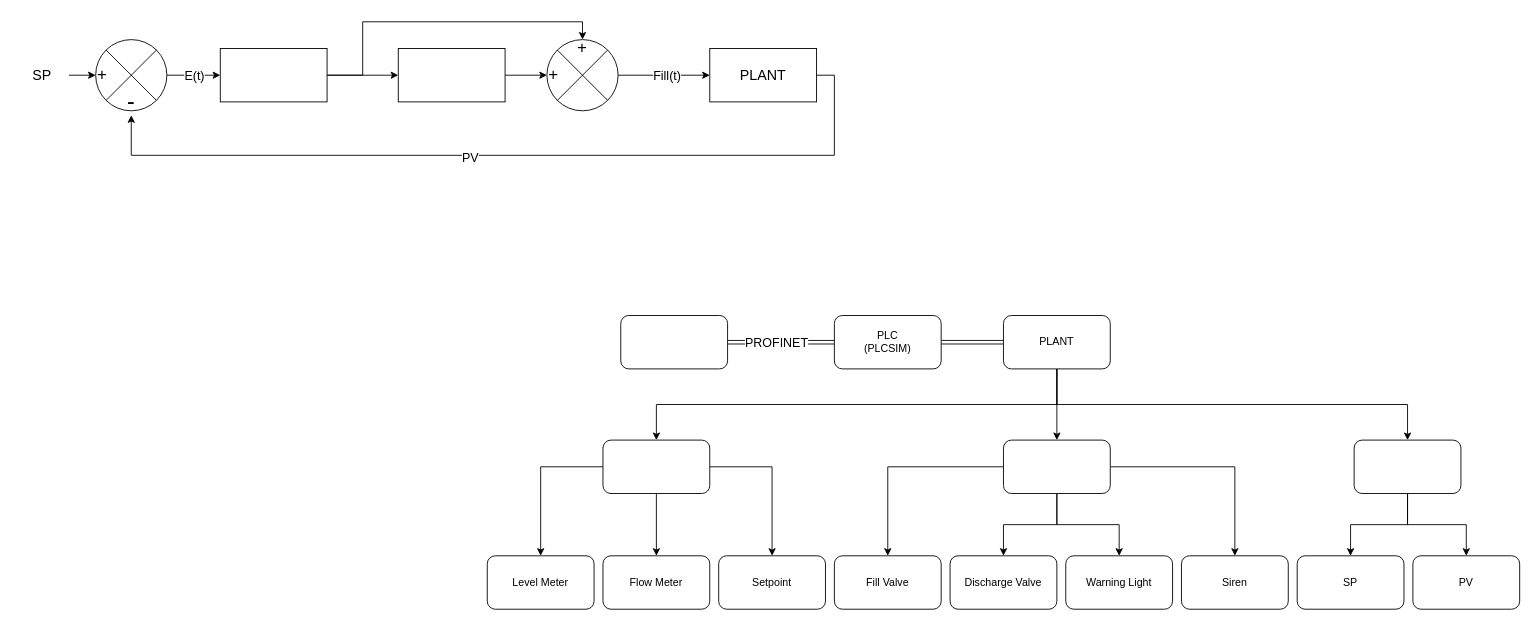
Some shapes in this 1535 by 625 pixel diagram are drawn without their labels. The centre of each missing label's shape, as x and y in pixels:
1 T i S: pixel 451 75
Actuators: pixel 1056 466
Display: pixel 1407 466
HMI: pixel 674 342
K p: pixel 273 75
Sensors: pixel 656 466
